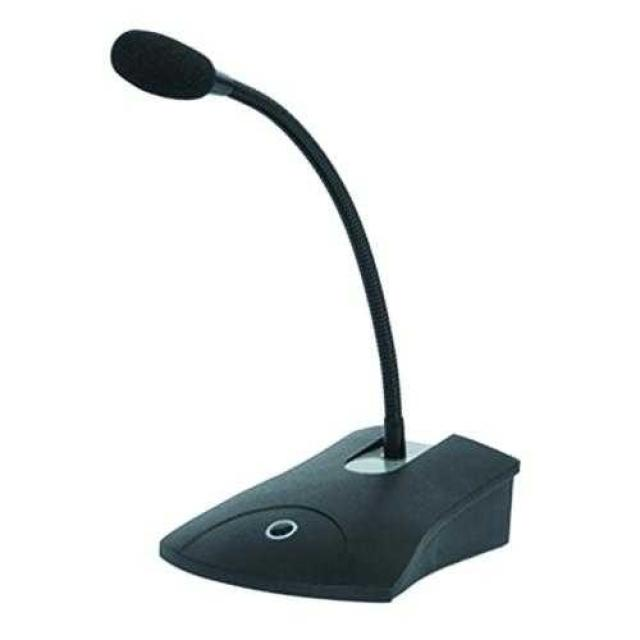microphone: (113, 29, 217, 101)
